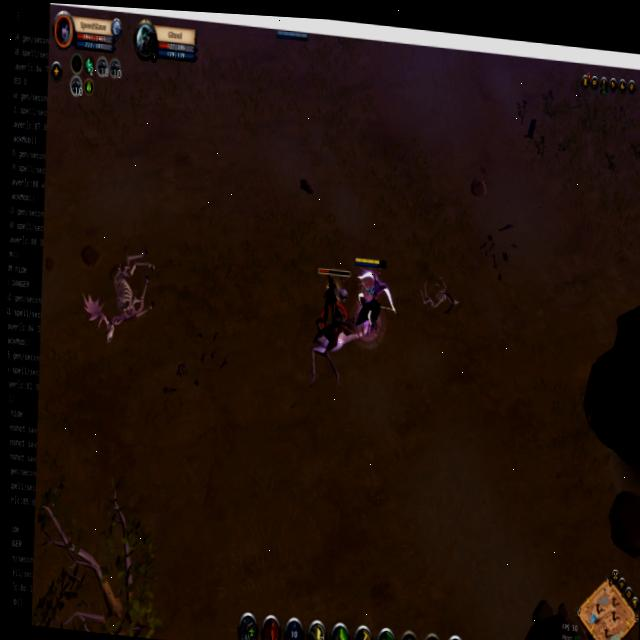mob: (305, 312, 351, 389)
ore: (311, 261, 353, 335)
red: (349, 252, 391, 340), (273, 28, 310, 45)
